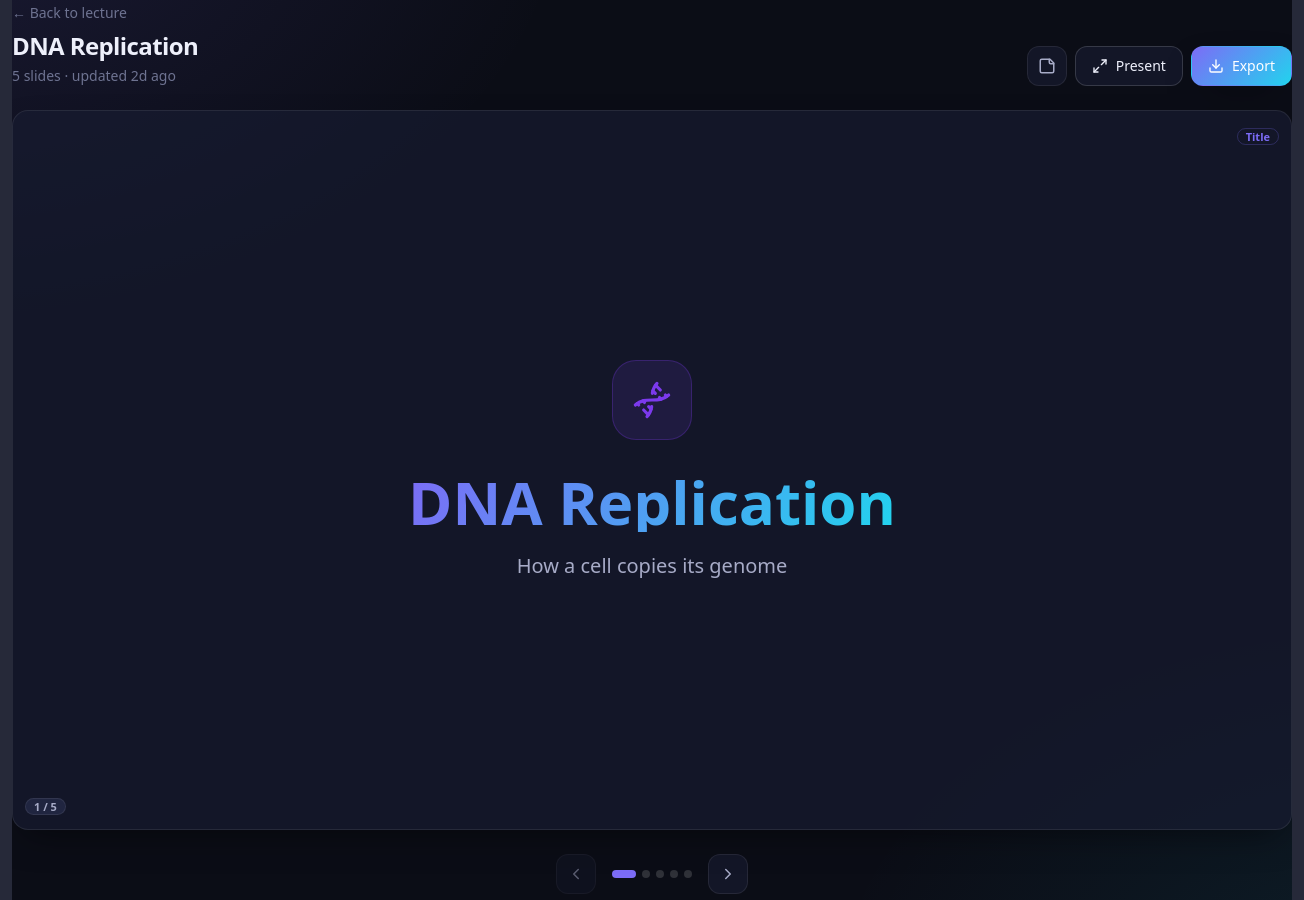
it: SlidesPage › shows speaker notes when toggled
Expected: the text "1 / 5" is shown, x1=25 y1=798 x2=66 y2=815
Click the button named "Toggle speaker notes".
click(1047, 66)  # box x1=1027 y1=46 x2=1067 y2=86
(page scrolled)
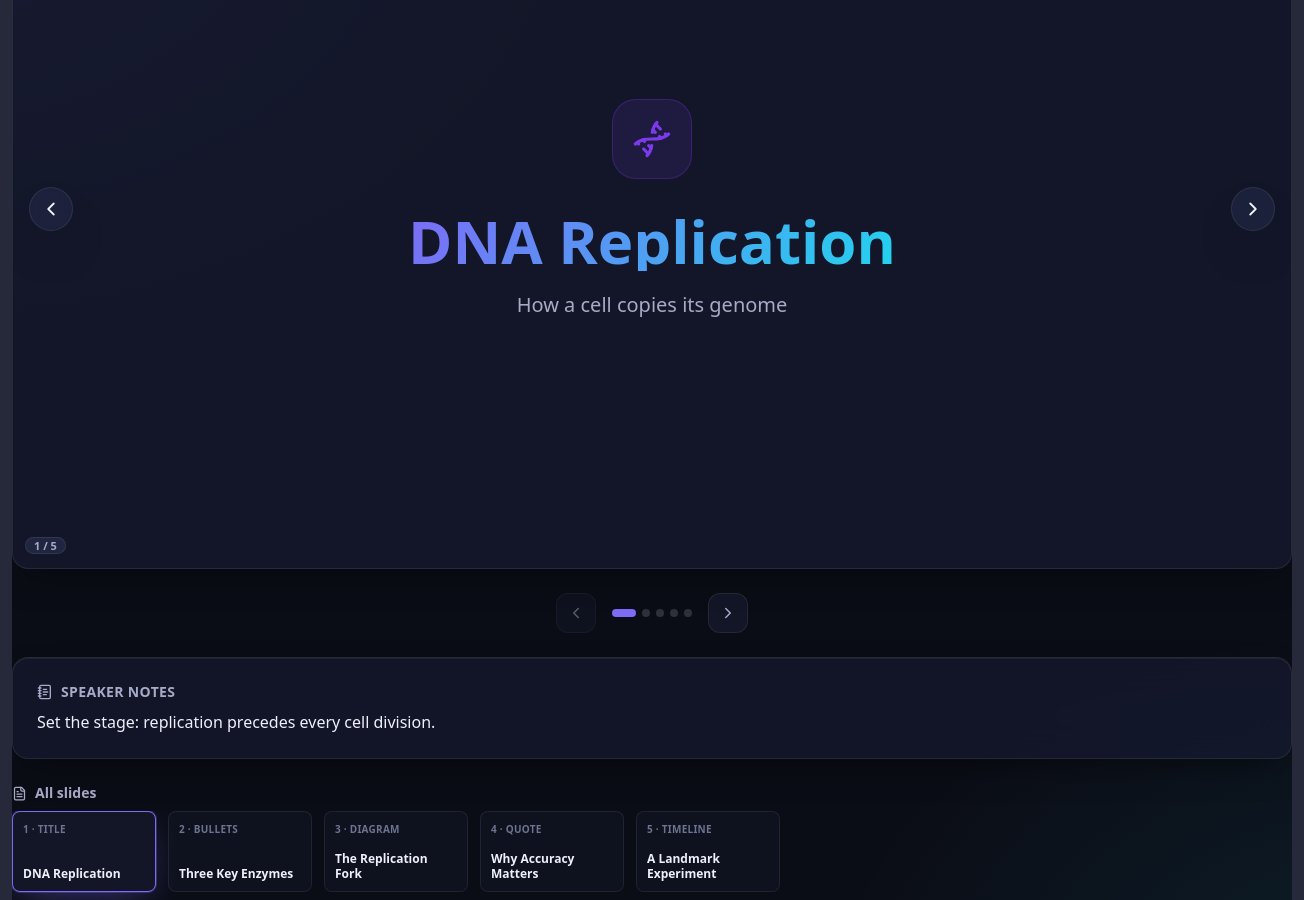
Expected: the text "Set the stage: replication precedes every cell division." is shown, x1=37 y1=711 x2=435 y2=733
